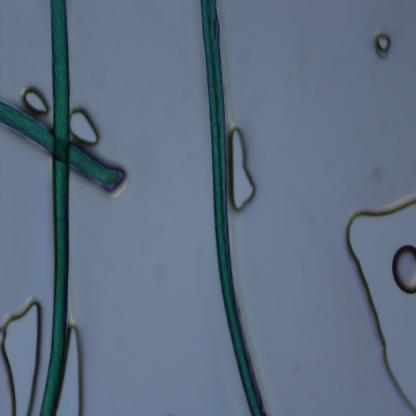Air bubble: (342, 190, 416, 415), (0, 297, 42, 415), (228, 127, 259, 214), (60, 324, 86, 415), (70, 110, 103, 148), (391, 243, 416, 293), (21, 86, 50, 116), (372, 34, 391, 59)
Microfibre: (198, 1, 266, 415), (38, 0, 71, 415), (0, 101, 127, 194)
